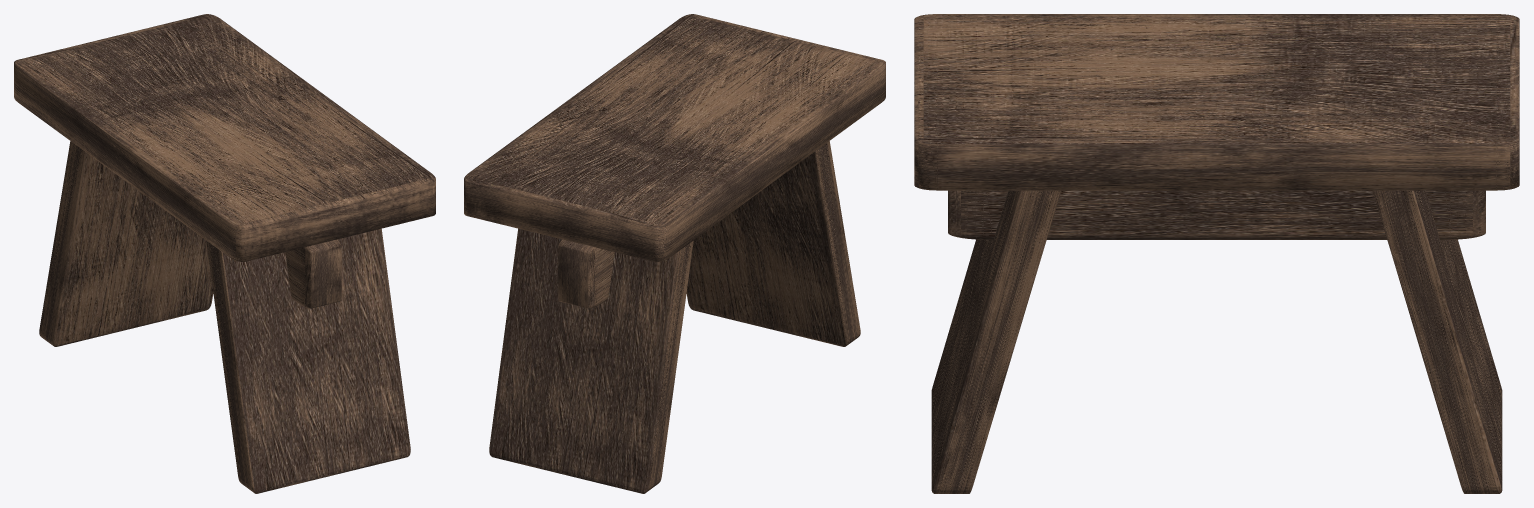
Rendered from schemel.fbx.
The picture shows the model from 3 angles, left to right: view 1: azimuth 30°, elevation 25°; view 2: azimuth 150°, elevation 25°; view 3: azimuth 270°, elevation 25°; orthographic projection. The views are drawn at different scales.
Visible parts, largest first — view 1: Schemel_SchämDich; view 2: Schemel_SchämDich; view 3: Schemel_SchämDich.
Boxes of the visible parts, x1,y1,x2,y2 form: Schemel_SchämDich: [14, 14, 435, 493]; Schemel_SchämDich: [464, 14, 885, 493]; Schemel_SchämDich: [914, 14, 1519, 493].
Size of the model in its own units: 23 by 30.12 by 45.
